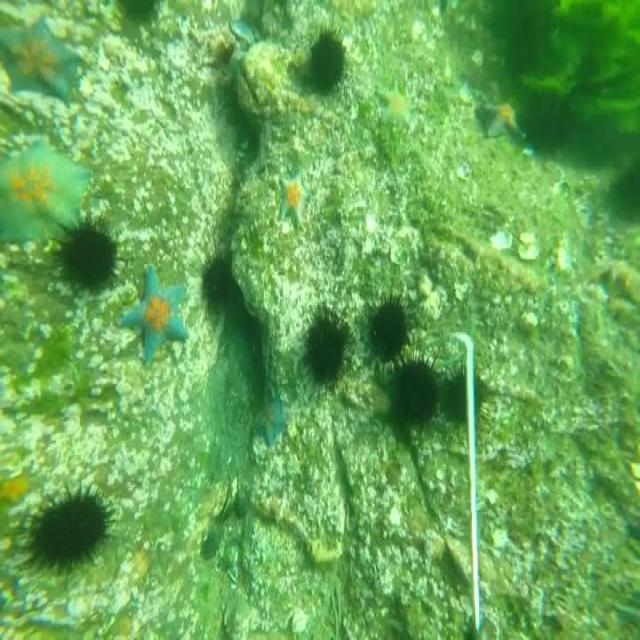echinus: (26, 484, 114, 574), (58, 215, 122, 294), (300, 310, 348, 392), (396, 349, 438, 432), (446, 359, 490, 431), (306, 27, 346, 99), (373, 292, 411, 367), (198, 240, 230, 305)
scallop: (520, 232, 540, 259), (490, 229, 512, 253), (554, 240, 572, 269), (588, 282, 608, 304), (459, 79, 474, 104)
starfish: (0, 138, 92, 248), (0, 16, 83, 109), (116, 267, 188, 362), (374, 74, 409, 130), (254, 398, 287, 449), (483, 103, 528, 139), (278, 172, 308, 226)
